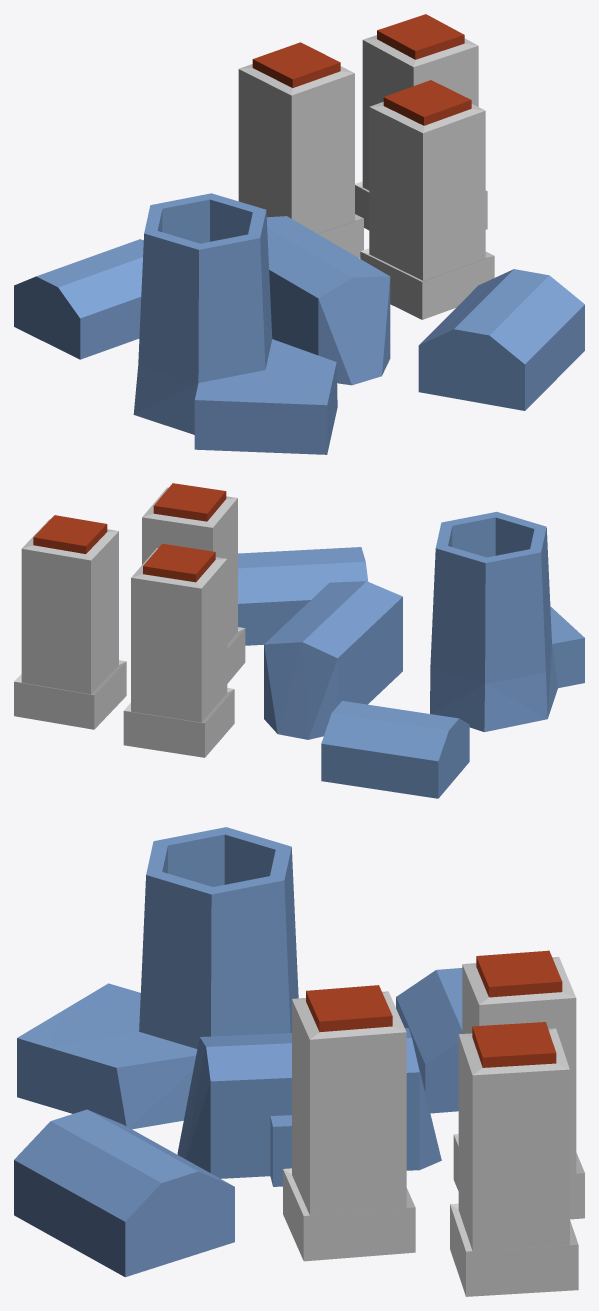
The model's file is beta01_03.dae.
3 renders of one model, top to bottom at view 1: azimuth 30°, elevation 25°; view 2: azimuth 150°, elevation 25°; view 3: azimuth 270°, elevation 25°, orthographic. The views are drawn at different scales.
Visible parts, largest first — view 1: Cube; view 2: Cube; view 3: Cube.
Boxes of the visible parts, x1,y1,x2,y2 form: Cube: (14, 14, 584, 454); Cube: (14, 483, 584, 798); Cube: (14, 827, 584, 1296).
Bounding box in the file's own units: 2.17 × 1.99 × 0.9112.
